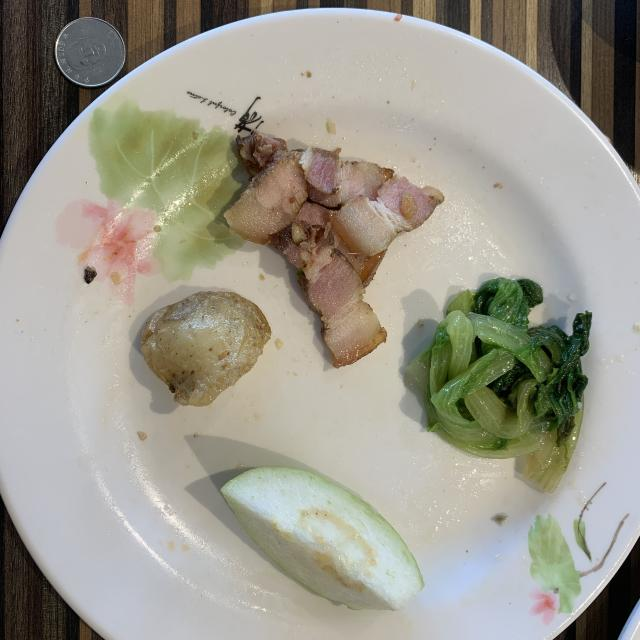coin: (55, 18, 125, 88)
fried potato: (141, 291, 271, 406)
grilled pork: (224, 130, 444, 368)
guava -sliced-: (221, 468, 424, 610)
mustard greens: (405, 278, 591, 491)
